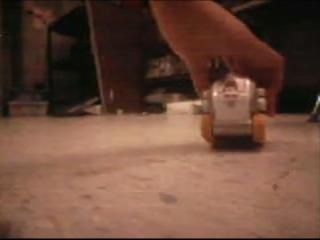cozmo: (199, 70, 268, 148)
